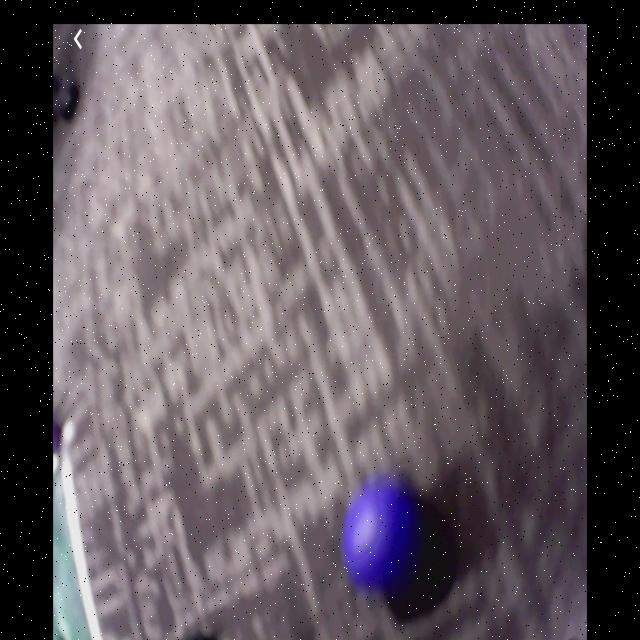ball: (345, 485, 412, 587)
